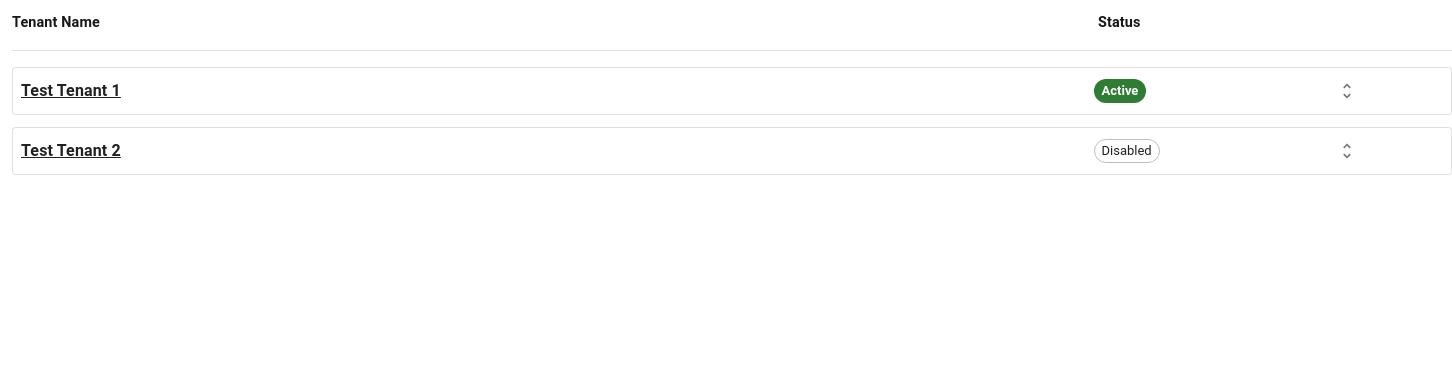
TenantResultList Component › Expand/Collapse Functionality (Medium Screen) › should collapse details when collapse icon is clicked
# First expand
Step 1. Click the button with test id "UnfoldMoreOutlinedIcon" → (1347, 91), box [1332,76,1362,106]
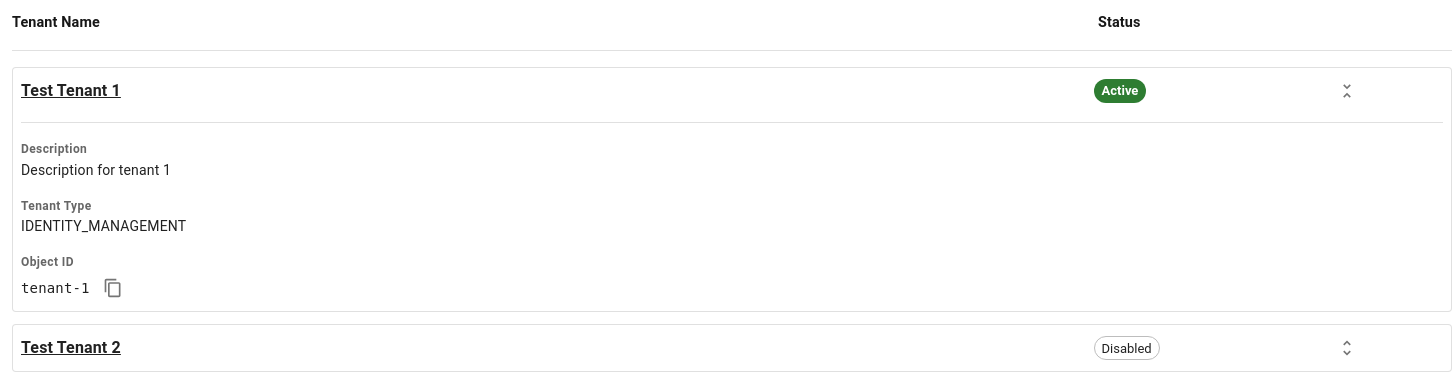
Now the text "Description" is shown, box [21,142,87,156]
# Then collapse
Step 2. Click the button with test id "UnfoldLessOutlinedIcon" → (1347, 91), box [1332,76,1362,106]
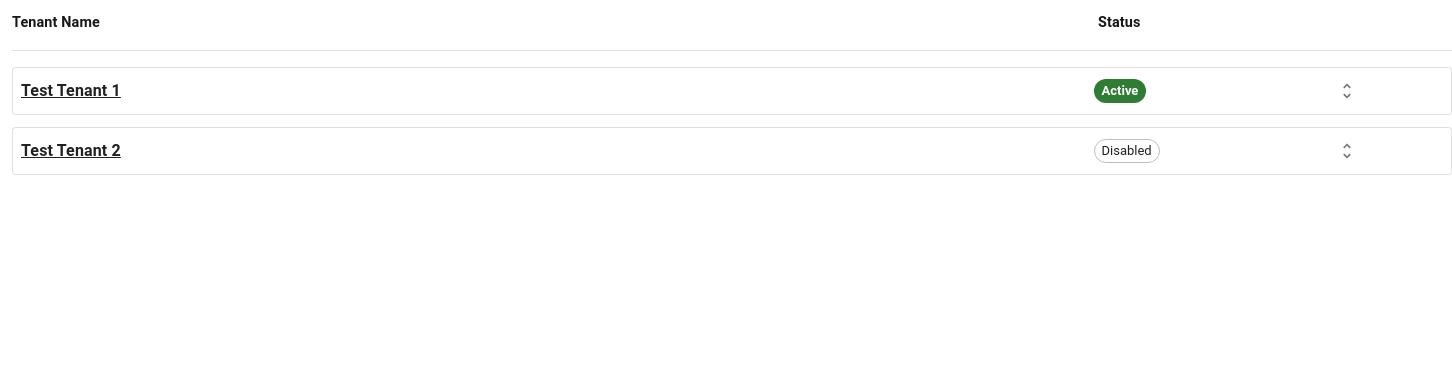
Now the text "Description" is gone
